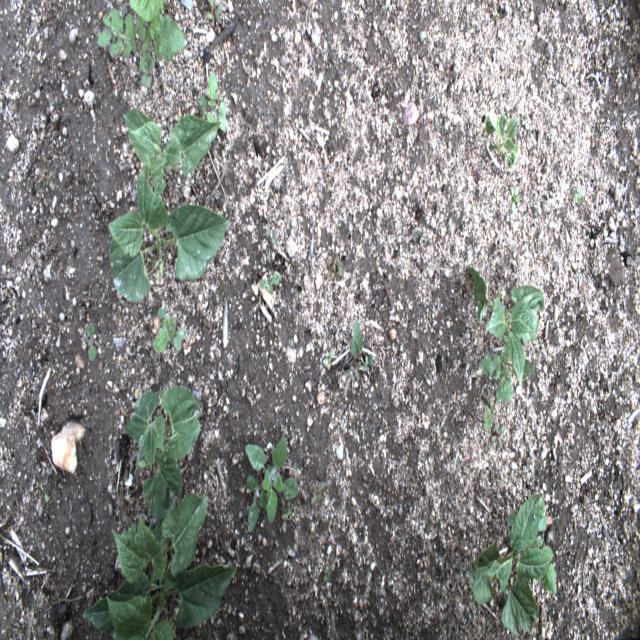crop: (80, 490, 240, 639), (107, 172, 231, 306), (466, 489, 553, 639), (122, 382, 206, 525), (467, 265, 545, 387), (123, 104, 220, 193), (484, 112, 520, 171)
weed: (97, 0, 187, 71), (244, 434, 304, 533), (479, 345, 514, 406), (152, 304, 186, 354), (200, 71, 227, 129), (531, 559, 561, 598), (536, 497, 554, 555), (259, 268, 283, 297), (522, 345, 535, 387), (351, 317, 362, 366), (482, 393, 496, 431), (86, 320, 98, 364), (206, 0, 223, 31), (489, 424, 505, 449), (310, 482, 326, 506), (363, 354, 378, 378), (511, 184, 522, 215), (344, 363, 361, 383), (325, 252, 342, 272), (324, 266, 345, 282), (139, 70, 152, 92), (486, 615, 498, 636), (323, 563, 333, 585), (572, 186, 583, 206), (40, 483, 49, 504), (324, 348, 333, 368), (49, 119, 59, 135), (192, 627, 206, 636), (383, 1, 393, 13), (210, 612, 218, 624), (43, 174, 49, 189)
